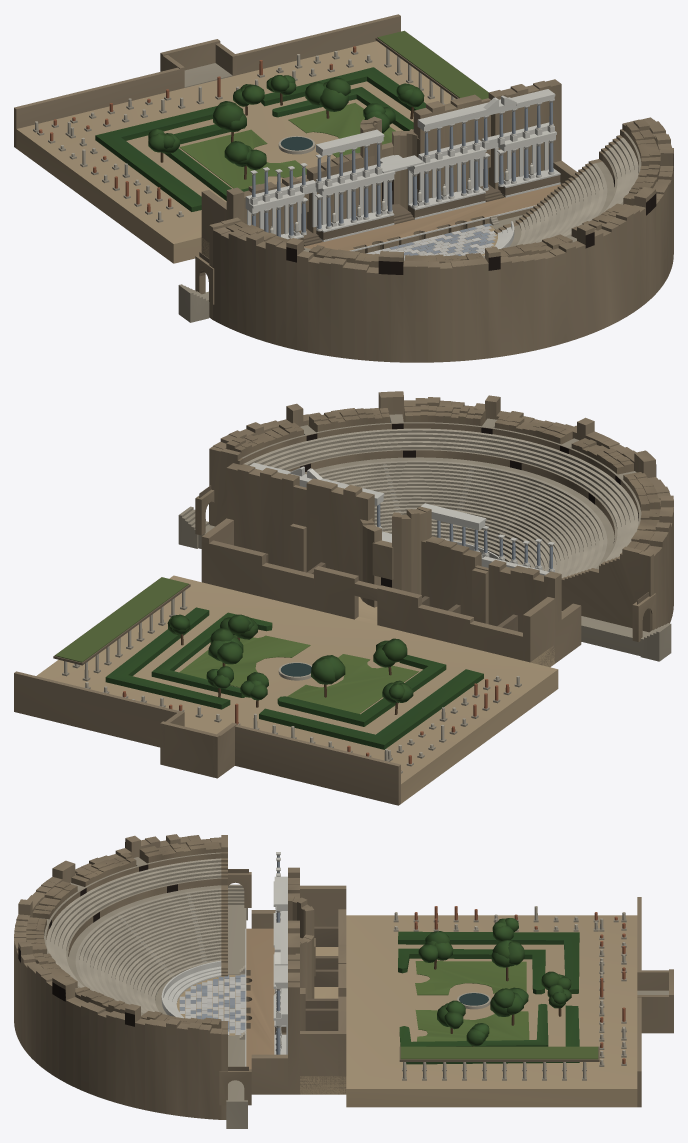
The picture shows the model from 3 angles, top to bottom: view 1: azimuth 30°, elevation 25°; view 2: azimuth 150°, elevation 25°; view 3: azimuth 270°, elevation 25°; orthographic projection. The views are drawn at different scales.
Parts seen in each view (by area): view 1: teatro_romano_de_merida; view 2: teatro_romano_de_merida; view 3: teatro_romano_de_merida.
Part boxes in pixels (x1,y1,x2,y2): teatro_romano_de_merida: (14, 14, 673, 362); teatro_romano_de_merida: (14, 391, 673, 805); teatro_romano_de_merida: (14, 834, 673, 1128).
Size of the model in its own units: 92.49 by 22.54 by 119.
